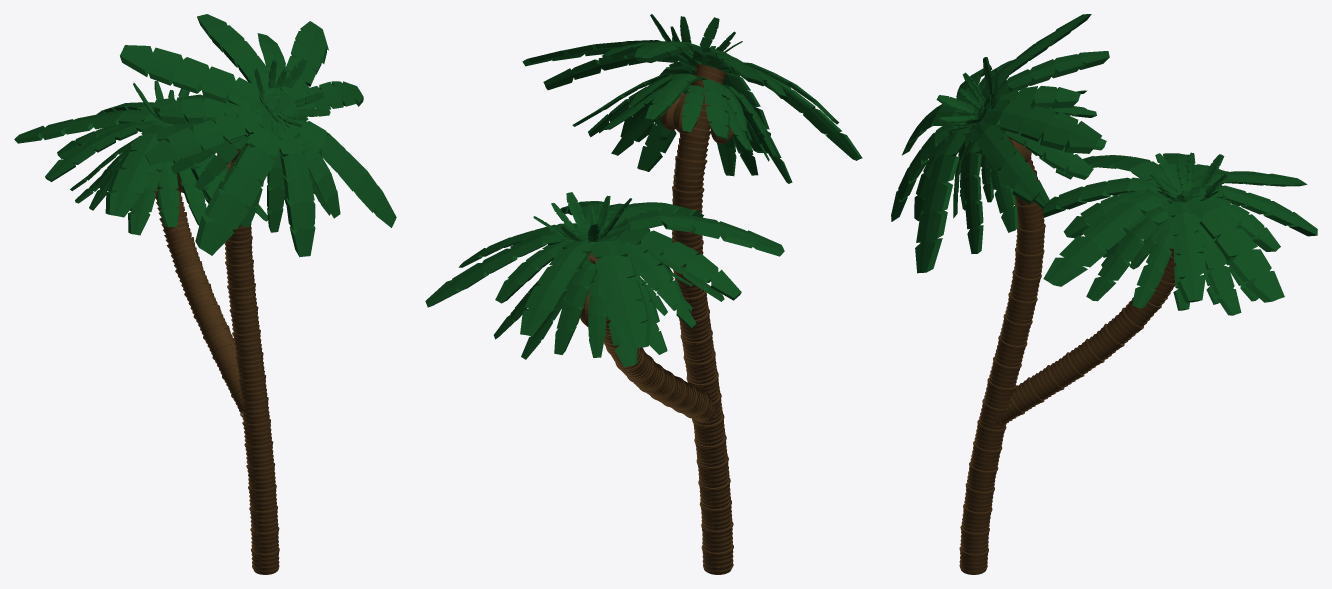
The model's file is palma2.fbx.
The picture shows the model from 3 angles, left to right: view 1: azimuth 30°, elevation 25°; view 2: azimuth 150°, elevation 25°; view 3: azimuth 270°, elevation 25°; orthographic projection. The views are drawn at different scales.
Visible parts, largest first — view 1: Cylinder.005; view 2: Cylinder.005; view 3: Cylinder.005.
Part boxes in pixels (box(x1,y1,x2,y2)): Cylinder.005: box(14, 14, 396, 574); Cylinder.005: box(425, 14, 862, 574); Cylinder.005: box(891, 14, 1317, 574).
Bounding box in the file's own units: 1293 × 2566 × 1916.
